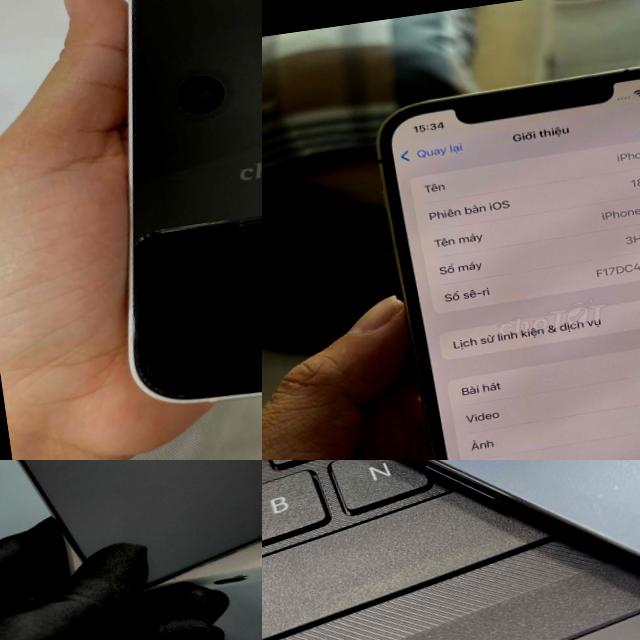gen_12_13: (359, 53, 640, 460), (262, 460, 640, 640)
gen_14: (61, 0, 262, 423)
gen_15: (0, 460, 262, 639)
